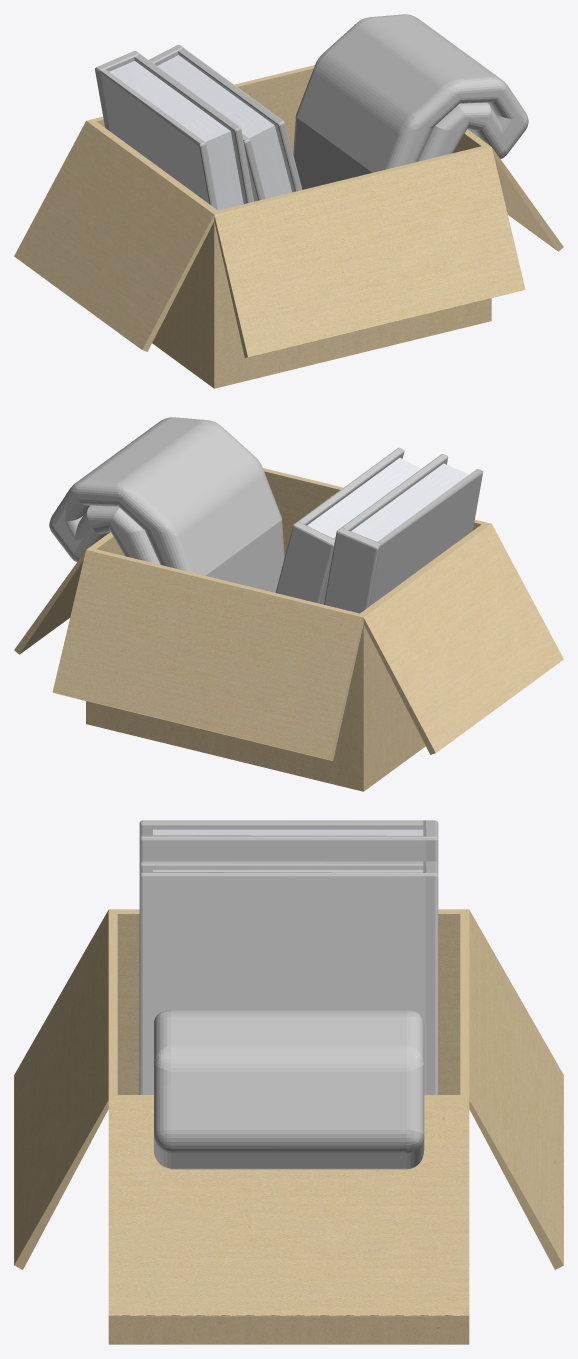
Rendered from cloth_box.fbx.
3 views of the same model, one above another, from view 1: azimuth 30°, elevation 25°; view 2: azimuth 150°, elevation 25°; view 3: azimuth 270°, elevation 25° (orthographic). The views are drawn at different scales.
Visible parts, largest first — view 1: danbox, cloth, book, book.001, danface; view 2: danbox, cloth, book, book.001, danface; view 3: danbox, book.001, cloth, book, danface.
Boxes of the visible parts, x1,y1,x2,y2 form: danbox: [14, 65, 563, 388]; cloth: [293, 14, 528, 189]; book: [95, 51, 253, 210]; book.001: [149, 45, 302, 201]; danface: [14, 219, 563, 357]; danbox: [14, 468, 563, 791]; cloth: [49, 417, 284, 592]; book: [324, 454, 482, 613]; book.001: [275, 447, 420, 604]; danface: [14, 621, 563, 760]; danbox: [14, 909, 563, 1344]; book.001: [139, 861, 438, 1094]; cloth: [154, 1009, 424, 1169]; book: [139, 820, 438, 863]; danface: [14, 1075, 563, 1316].
Size of the model in its own units: 380 by 210 by 305.
